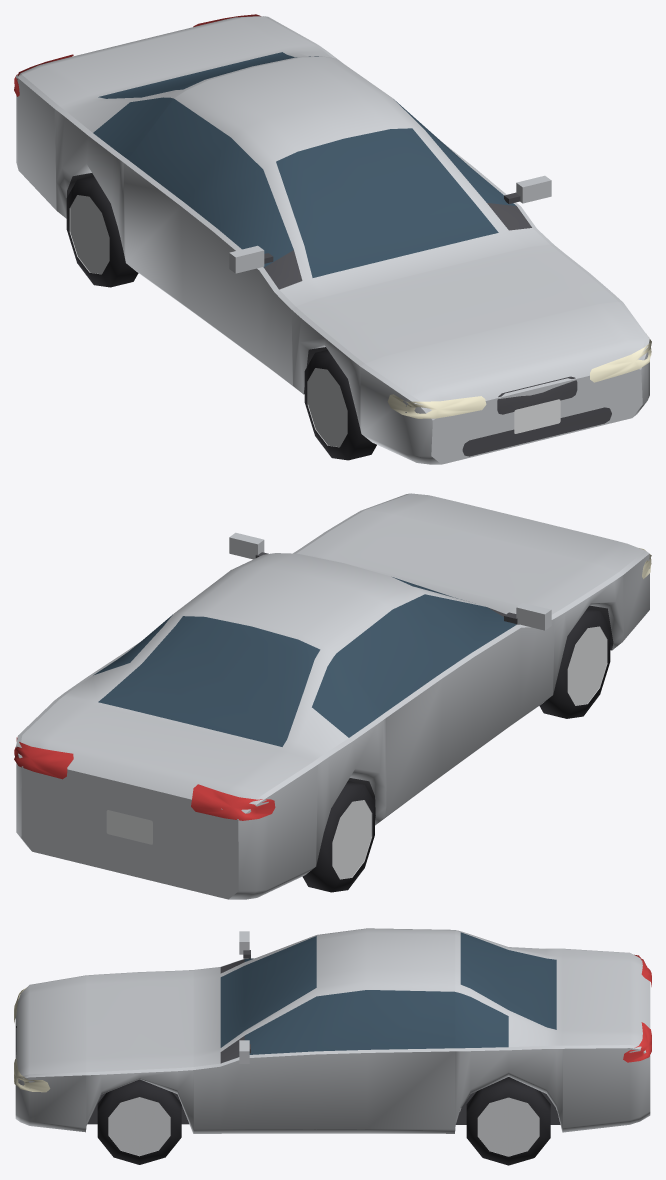
3 renders of one model, top to bottom at view 1: azimuth 30°, elevation 25°; view 2: azimuth 150°, elevation 25°; view 3: azimuth 270°, elevation 25°, orthographic. The views are drawn at different scales.
Visible parts, largest first — view 1: 10_9; view 2: 10_9; view 3: 10_9.
Boxes of the visible parts, x1,y1,x2,y2 form: 10_9: (14, 14, 651, 464); 10_9: (14, 493, 651, 899); 10_9: (14, 928, 651, 1165).
Bounding box in the file's own units: 2.25 × 1.47 × 5.05.
